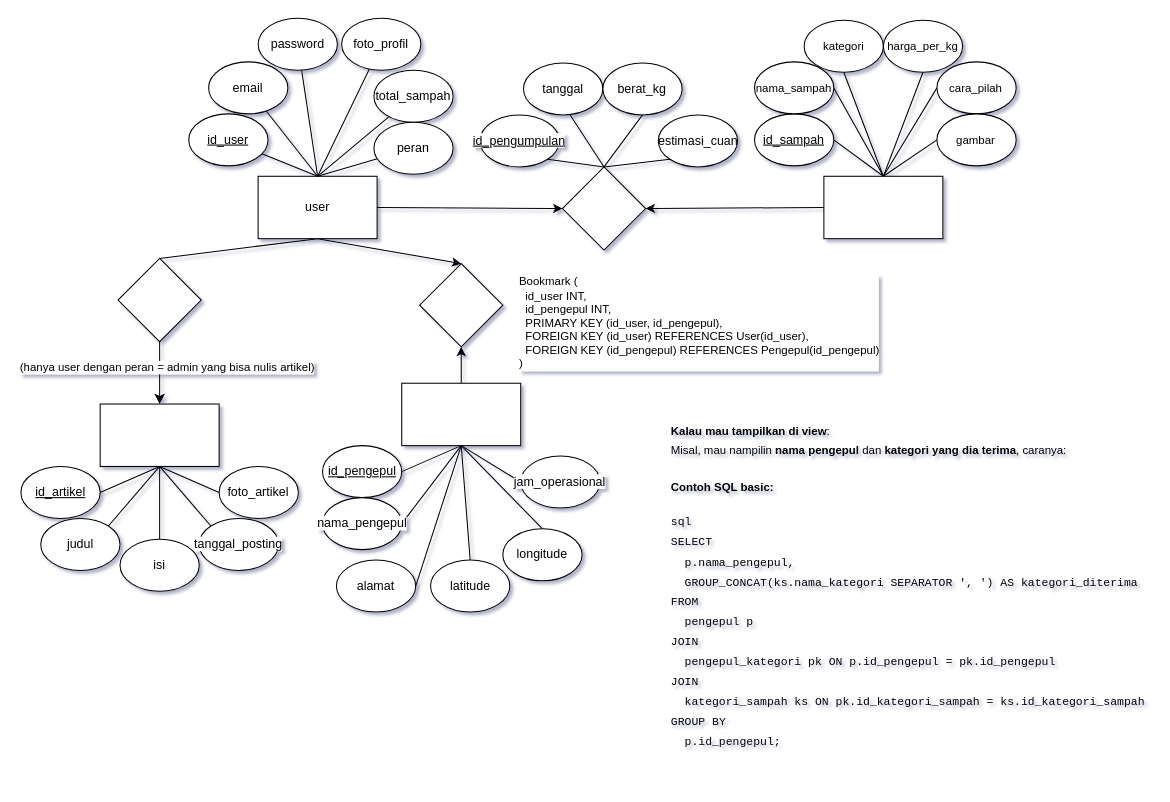
Some shapes in this 1170 by 802 pixel diagram are drawn without their labels. The shapes that lost their labels are listed below. From the top down, each one's centre as x and y in pixels, then its label:
At [603,208]: "pengumpulan".
At [883,207]: "sampah".
At [159,299]: "membuat".
At [461,305]: "bookmark".
At [159,434]: "artikel".
At [461,414]: "pengepul".
